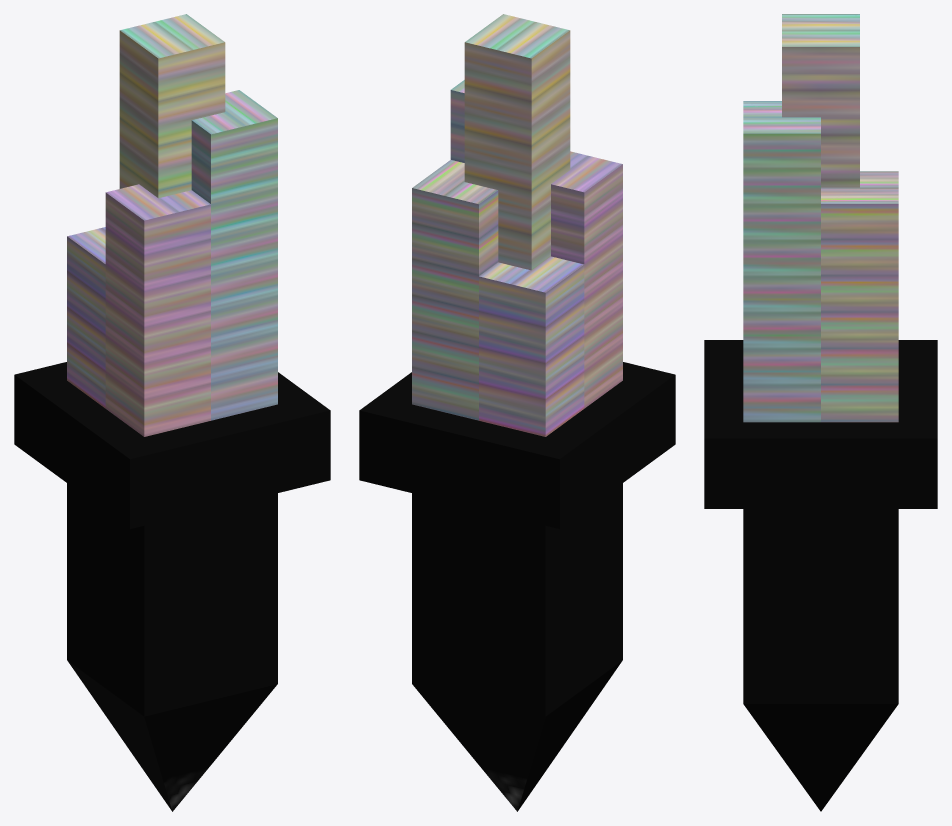
The model's file is pedestal_crystalholder.obj.
3 renders of one model, left to right at view 1: azimuth 30°, elevation 25°; view 2: azimuth 150°, elevation 25°; view 3: azimuth 270°, elevation 25°, orthographic.
Visible parts, largest first — view 1: CRYSTAL_HOLDER_Cube.010; view 2: CRYSTAL_HOLDER_Cube.010; view 3: CRYSTAL_HOLDER_Cube.010.
Boxes of the visible parts, left/top/right/bottom form: CRYSTAL_HOLDER_Cube.010: left=14, top=14, right=330, bottom=811; CRYSTAL_HOLDER_Cube.010: left=359, top=14, right=675, bottom=811; CRYSTAL_HOLDER_Cube.010: left=704, top=14, right=937, bottom=811.
Size of the model in its own units: 0.1875 by 0.6935 by 0.1875.
